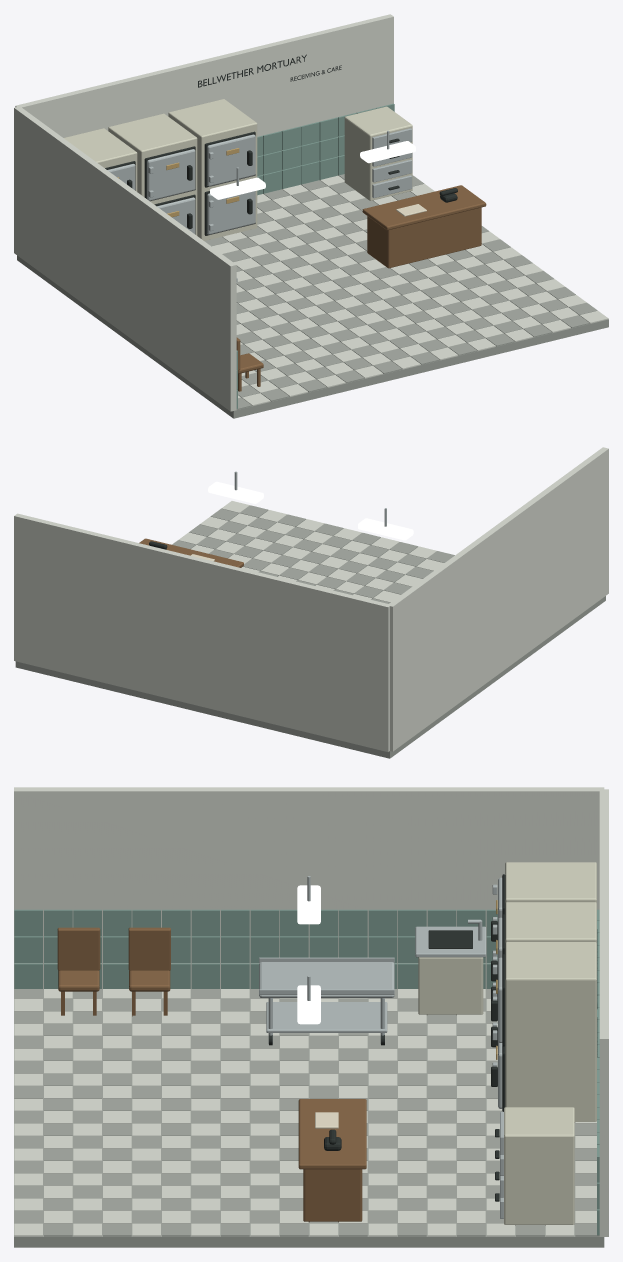
Rendered from interior-mortuary.glb.
3 views of the same model, one above another, from view 1: azimuth 30°, elevation 25°; view 2: azimuth 150°, elevation 25°; view 3: azimuth 270°, elevation 25° (orthographic). The views are drawn at different scales.
Parts seen in each view (by area): view 1: left tiled wall, receiving foundation, terrazzo floor.001, back tiled wall, insulated cabinet, reception counter, cold cabinet door, back jade tile, sink cabinet, trolley leg, rubber door gasket, opal task light; view 2: back tiled wall, left tiled wall, receiving foundation, terrazzo floor.001, opal task light, reception counter; view 3: left tiled wall, receiving foundation, terrazzo floor.001, side jade tile, insulated cabinet, reception counter, sink cabinet, trolley leg, back tiled wall, opal task light, rubber door gasket, cold cabinet door (+2 smaller).
Boxes of the visible parts, x1,y1,x2,y2 form: left tiled wall: (14,107,236,411); receiving foundation: (17,174,608,418); terrazzo floor.001: (212,175,608,405); back tiled wall: (15,14,393,165); insulated cabinet: (64,99,257,240); reception counter: (236,185,486,391); cold cabinet door: (107,134,255,234); back jade tile: (257,103,394,195); sink cabinet: (344,106,412,200); trolley leg: (236,128,412,283); rubber door gasket: (105,131,255,235); opal task light: (210,141,415,199); back tiled wall: (14,513,391,751); left tiled wall: (388,447,608,751); receiving foundation: (15,505,605,758); terrazzo floor.001: (178,501,444,602); opal task light: (208,481,413,540); reception counter: (139,538,243,567); left tiled wall: (14,787,604,989); receiving foundation: (14,988,604,1247); terrazzo floor.001: (14,989,596,1236); side jade tile: (14,909,599,988); insulated cabinet: (505,862,596,1122); reception counter: (57,927,366,1222); sink cabinet: (418,957,574,1225); trolley leg: (259,876,503,1218); back tiled wall: (599,789,608,1236); opal task light: (297,885,320,1024); rubber door gasket: (491,874,505,1111); cold cabinet door: (492,877,502,1108).
Bounding box in the file's own units: 10.08 × 3.9 × 10.08.
